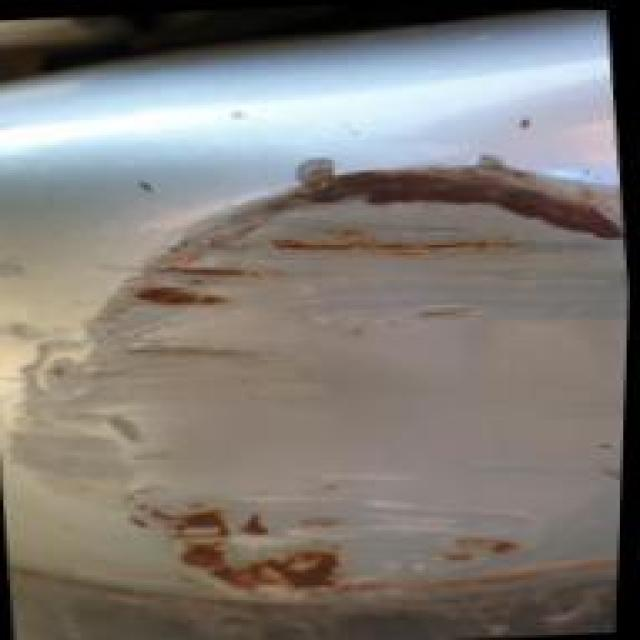Door: (0, 80, 638, 640)
